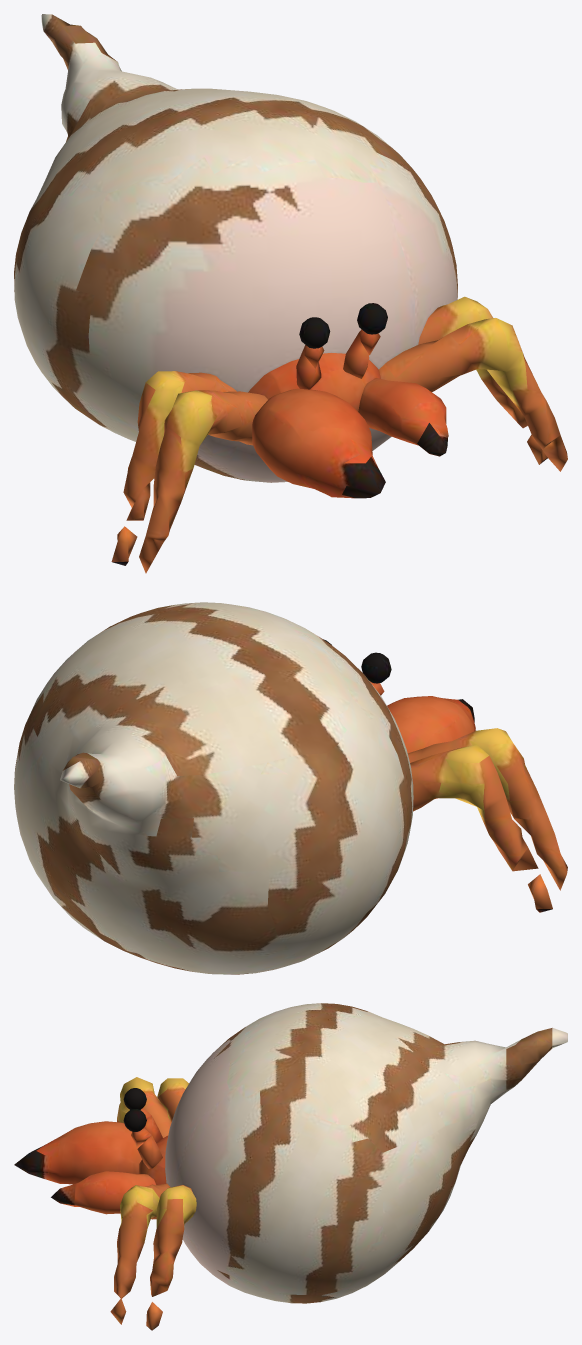
File: hermit_crab.glb
3 renders of one model, top to bottom at view 1: azimuth 30°, elevation 25°; view 2: azimuth 150°, elevation 25°; view 3: azimuth 270°, elevation 25°, orthographic. The views are drawn at different scales.
Parts seen in each view (by area): view 1: hermit_crab, claw0, leg2, leg0, leg1, claw1, leg3; view 2: hermit_crab, leg1, leg0, claw0; view 3: hermit_crab, claw0, leg3, leg2, claw1, leg0, leg1.
Part boxes in pixels (x1=…): hermit_crab: x1=14, y1=14, x2=457, y2=482; claw0: x1=252, y1=388, x2=385, y2=498; leg2: x1=379, y1=318, x2=567, y2=471; leg0: x1=139, y1=390, x2=267, y2=573; leg1: x1=111, y1=371, x2=236, y2=565; claw1: x1=358, y1=378, x2=448, y2=456; leg3: x1=418, y1=296, x2=547, y2=464; hermit_crab: x1=14, y1=602, x2=413, y2=974; leg1: x1=410, y1=745, x2=552, y2=912; leg0: x1=407, y1=728, x2=567, y2=890; claw0: x1=387, y1=696, x2=475, y2=753; hermit_crab: x1=123, y1=1003, x2=567, y2=1303; claw0: x1=14, y1=1121, x2=143, y2=1184; leg3: x1=146, y1=1185, x2=196, y2=1330; leg2: x1=110, y1=1183, x2=170, y2=1324; claw1: x1=51, y1=1171, x2=156, y2=1214; leg0: x1=117, y1=1077, x2=171, y2=1137; leg1: x1=157, y1=1078, x2=188, y2=1121.
Size of the model in its own units: 0.1223 by 0.0916 by 0.18.
1 material, 1 textured.
